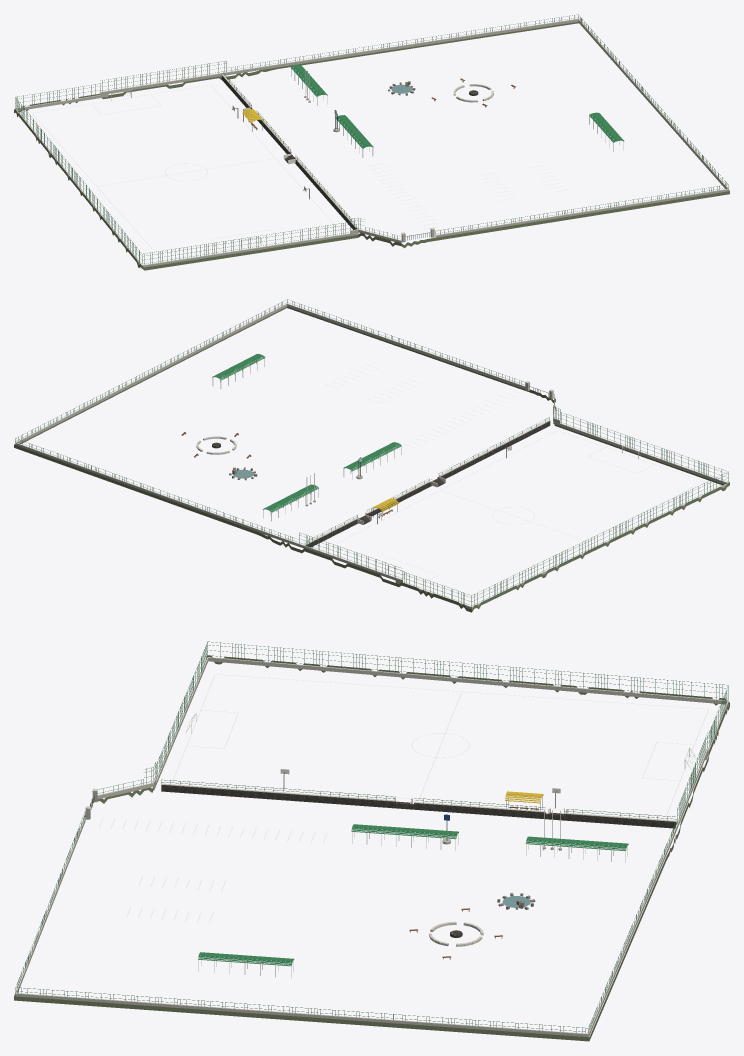
3 renders of one model, top to bottom at view 1: azimuth 30°, elevation 25°; view 2: azimuth 150°, elevation 25°; view 3: azimuth 270°, elevation 25°, orthographic. The views are drawn at different scales.
Visible parts, largest first — view 1: prop_boundary-fence, prop_ground-skirt, prop_walkway-canopies, prop_field-lines, prop_field-railing, prop_field-retaining-wall, prop_courtyard-garden; view 2: prop_boundary-fence, prop_ground-skirt, prop_walkway-canopies, prop_field-retaining-wall, prop_field-railing, prop_field-lines, prop_courtyard-garden; view 3: prop_boundary-fence, prop_ground-skirt, prop_field-retaining-wall, prop_walkway-canopies, prop_field-railing, prop_field-lines, prop_courtyard-garden.
Boxes of the visible parts, left/top/right/bottom form: prop_boundary-fence: left=15, top=14, right=728, bottom=267; prop_ground-skirt: left=14, top=22, right=729, bottom=270; prop_walkway-canopies: left=291, top=64, right=624, bottom=157; prop_field-lines: left=32, top=85, right=340, bottom=259; prop_field-railing: left=221, top=71, right=356, bottom=227; prop_field-retaining-wall: left=221, top=75, right=357, bottom=229; prop_courtyard-garden: left=388, top=78, right=515, bottom=107; prop_boundary-fence: left=15, top=299, right=728, bottom=609; prop_ground-skirt: left=14, top=306, right=729, bottom=612; prop_walkway-canopies: left=212, top=354, right=401, bottom=521; prop_field-retaining-wall: left=305, top=421, right=550, bottom=547; prop_field-railing: left=304, top=417, right=549, bottom=545; prop_field-lines: left=323, top=430, right=703, bottom=600; prop_courtyard-garden: left=181, top=432, right=257, bottom=480; prop_boundary-fence: left=15, top=641, right=728, bottom=1037; prop_ground-skirt: left=14, top=655, right=729, bottom=1041; prop_field-retaining-wall: left=161, top=785, right=676, bottom=828; prop_walkway-canopies: left=198, top=824, right=628, bottom=977; prop_field-railing: left=161, top=779, right=676, bottom=821; prop_field-lines: left=172, top=674, right=708, bottom=816; prop_courtyard-garden: left=409, top=892, right=535, bottom=959.
Bounding box in the file's own units: 189 × 10.9 × 150.
Materials: 19 (1 with a texture image).
